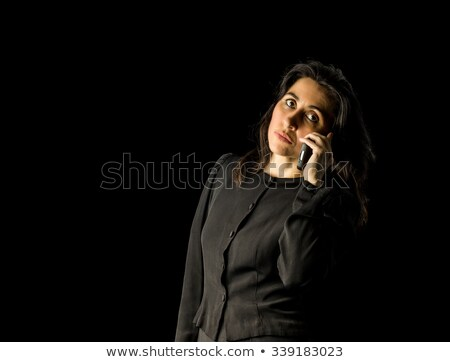phone: (295, 135, 344, 177)
talk: (266, 92, 341, 183)
